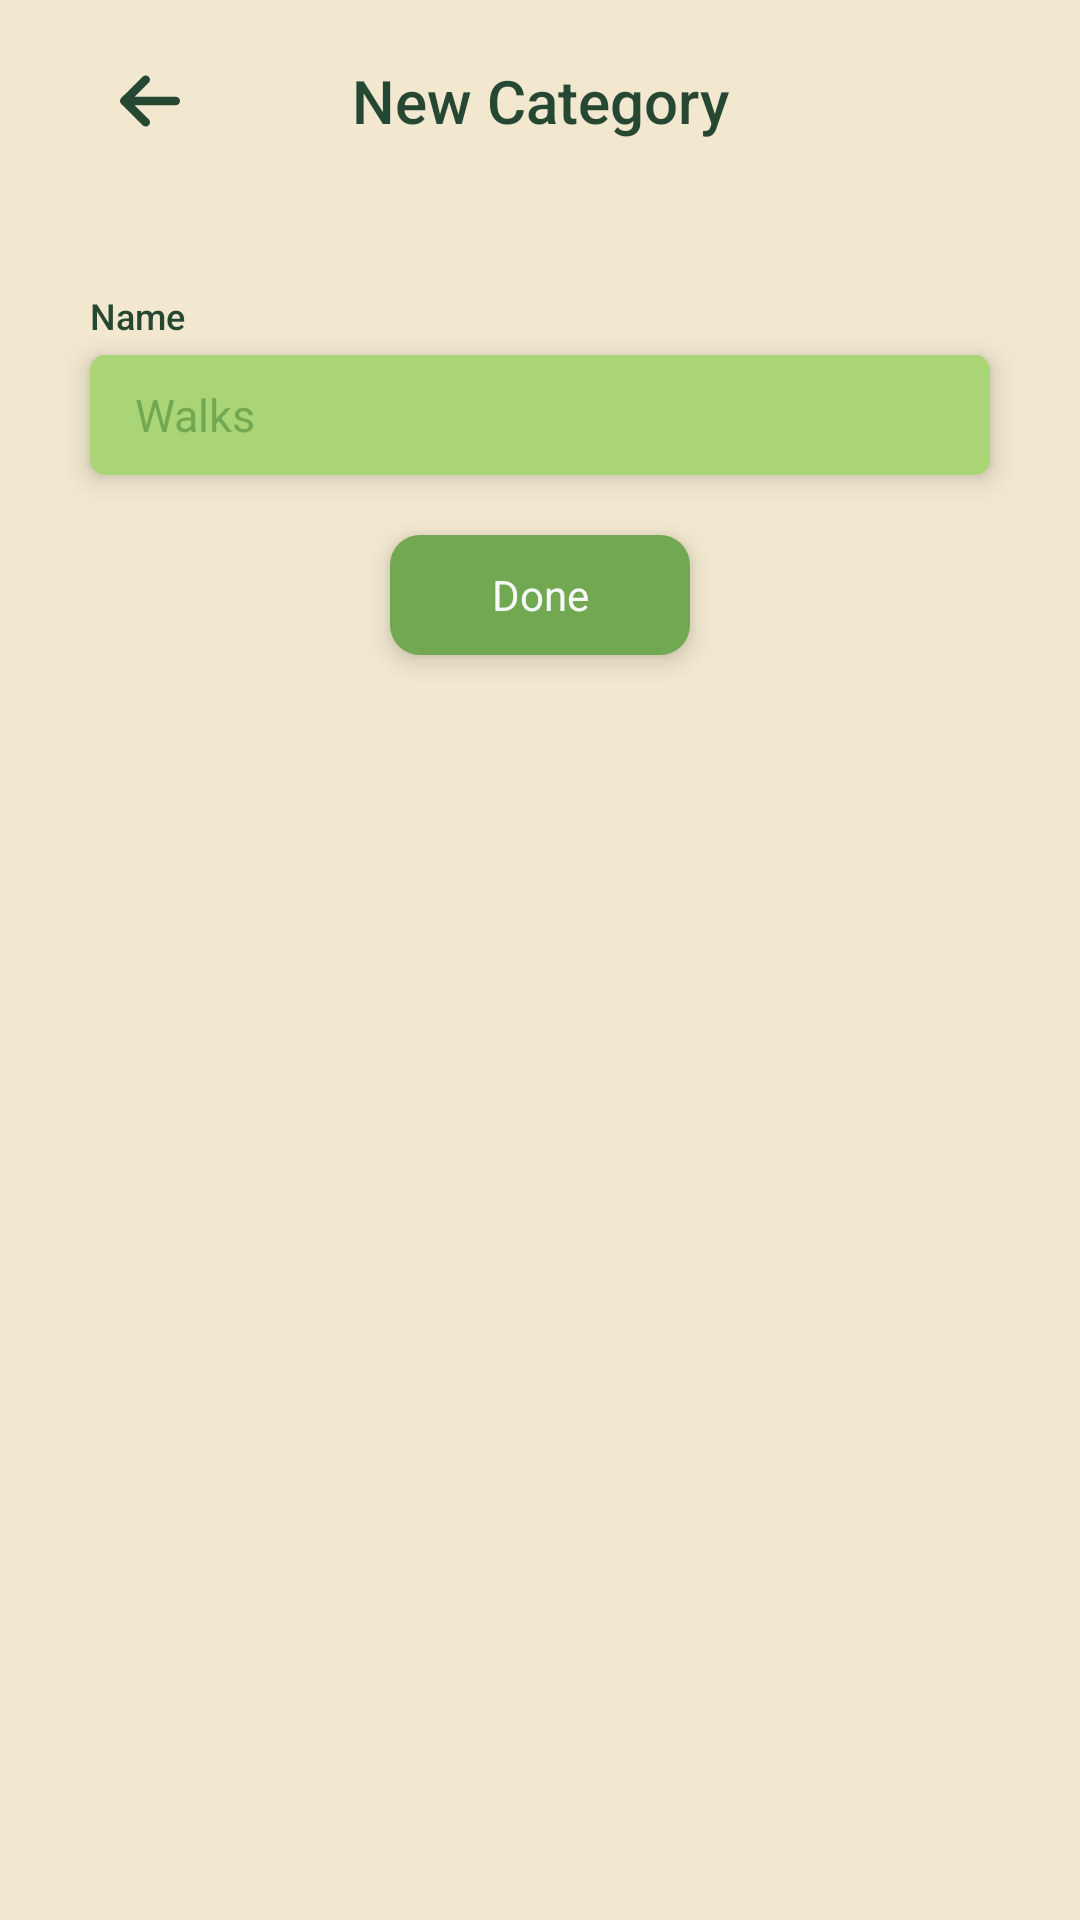

Point at icon controls on the screen. Image size 1080×1920, points as (x,y).
arrow left: (150,101)
